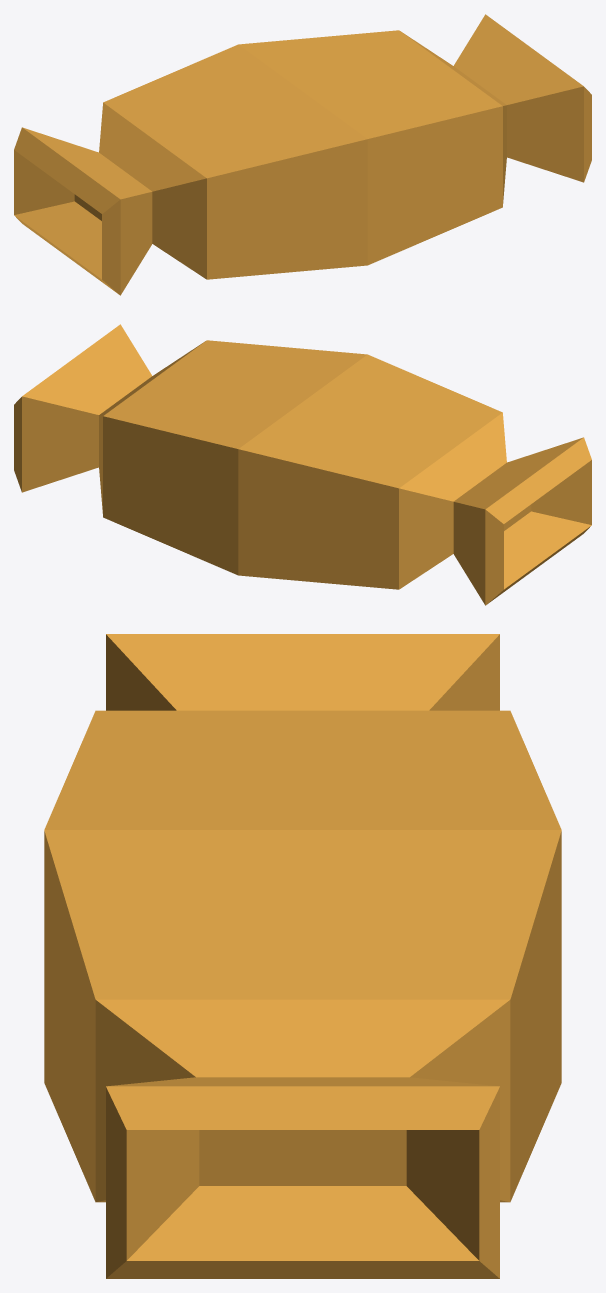
The model's file is candy-a.fbx.
3 views of the same model, one above another, from view 1: azimuth 30°, elevation 25°; view 2: azimuth 150°, elevation 25°; view 3: azimuth 270°, elevation 25° (orthographic). The views are drawn at different scales.
Parts seen in each view (by area): view 1: candy-a; view 2: candy-a; view 3: candy-a.
Part boxes in pixels (x1=…): candy-a: x1=14, y1=14, x2=591, y2=295; candy-a: x1=14, y1=324, x2=591, y2=605; candy-a: x1=44, y1=634, x2=561, y2=1278.
Size of the model in its own units: 0.0477 by 0.0118 by 0.0218.
